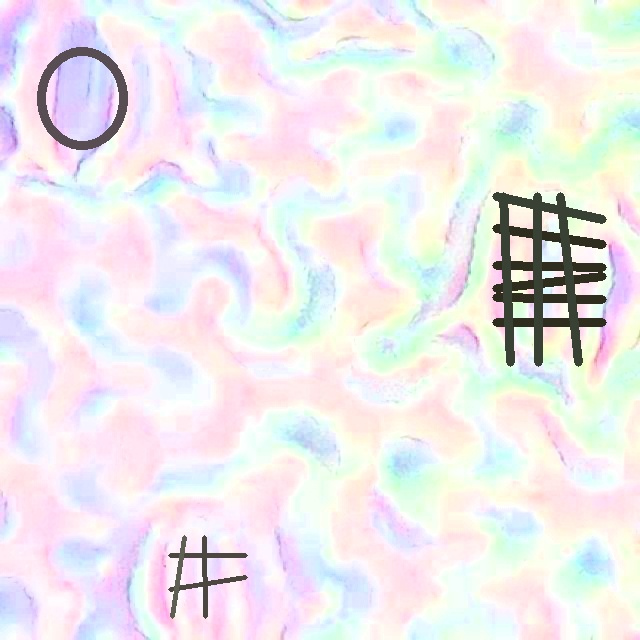close: (168, 535, 247, 618)
open: (493, 192, 605, 366), (37, 46, 127, 150)
